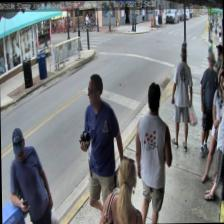person: (133, 81, 172, 224), (98, 158, 142, 224), (168, 45, 194, 152)
